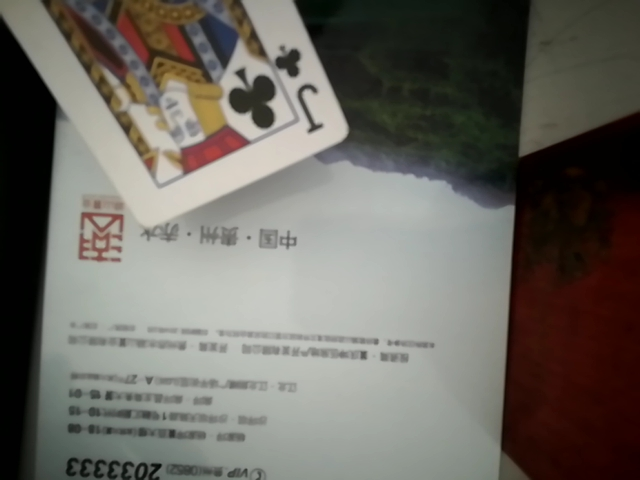mh j: (3, 0, 354, 253)
